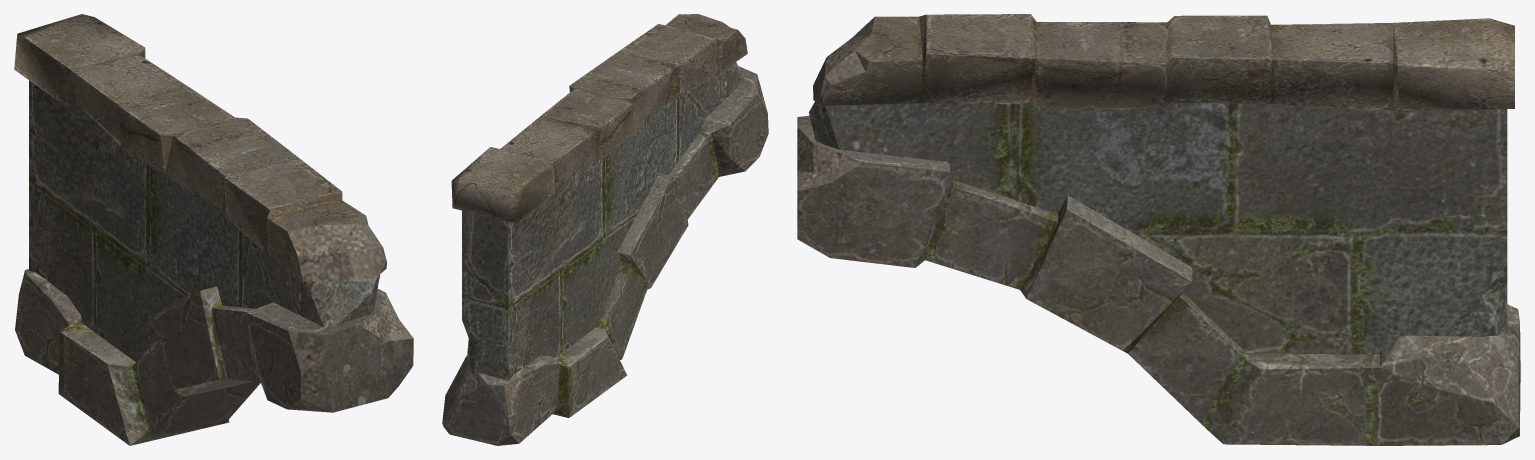
Rendered from bg_lut_lutomb_structure01_sm_old.FBX.
3 renders of one model, left to right at view 1: azimuth 30°, elevation 25°; view 2: azimuth 150°, elevation 25°; view 3: azimuth 270°, elevation 25°, orthographic. The views are drawn at different scales.
Visible parts, largest first — view 1: bg_lut_lutomb_structure01_sm_old; view 2: bg_lut_lutomb_structure01_sm_old; view 3: bg_lut_lutomb_structure01_sm_old.
Part boxes in pixels (x1,y1,x2,y2): bg_lut_lutomb_structure01_sm_old: (14, 14, 413, 445); bg_lut_lutomb_structure01_sm_old: (442, 14, 768, 445); bg_lut_lutomb_structure01_sm_old: (797, 14, 1520, 445).
Size of the model in its own units: 110 by 304 by 522.
